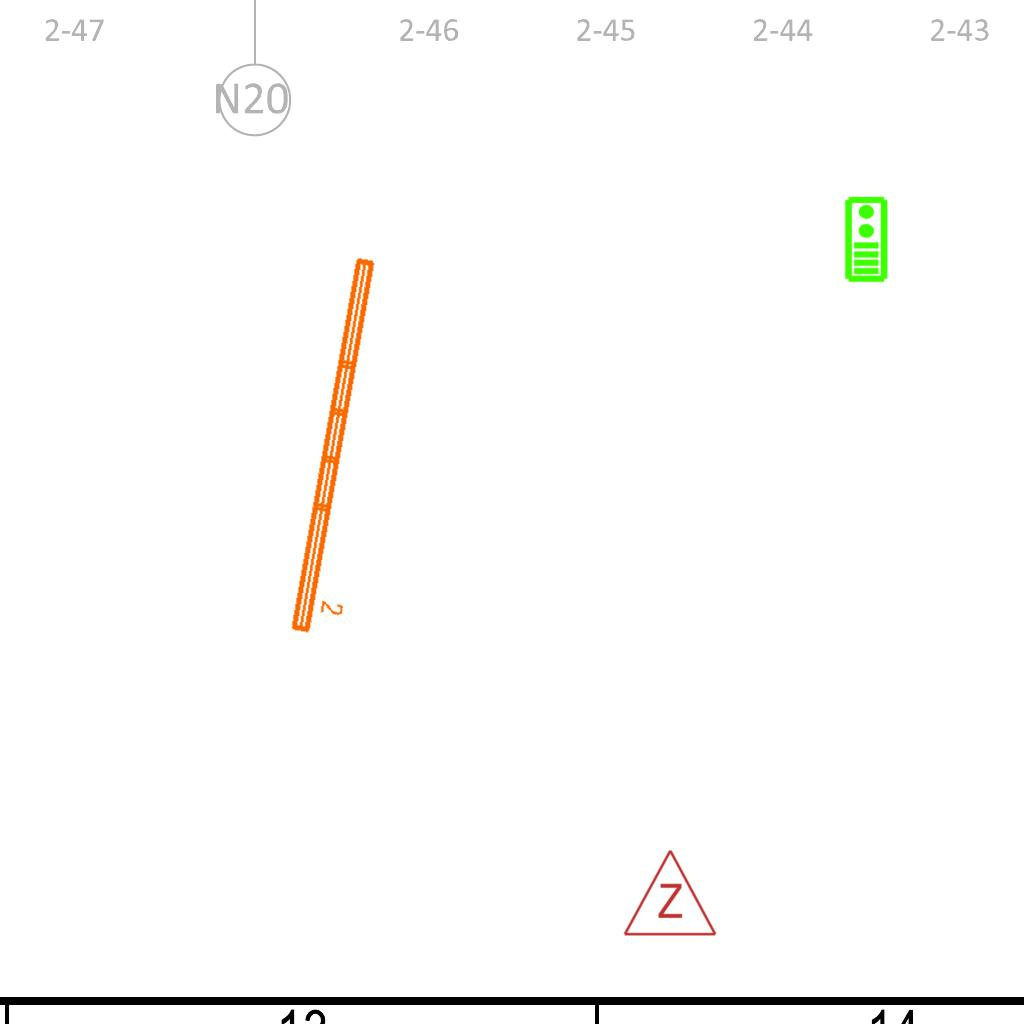Ambulanz_Pendelleuchte_LED: (284, 251, 407, 643)
Gegensprechanlage_mit_Video: (842, 195, 889, 283)
Zimmersignalleuchte: (620, 843, 718, 943)
